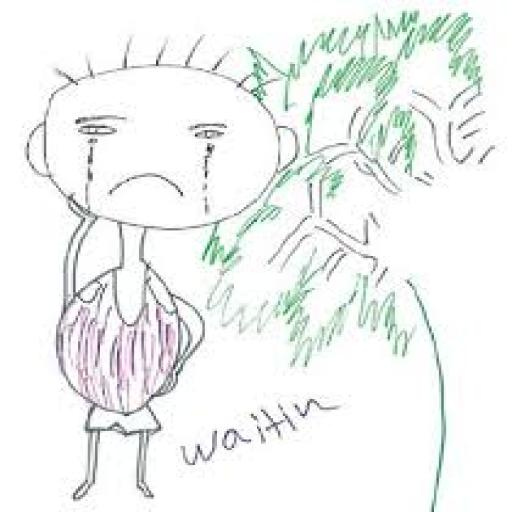person: (22, 30, 298, 498)
